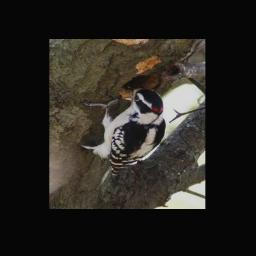Woodpecker: (81, 84, 166, 182)
